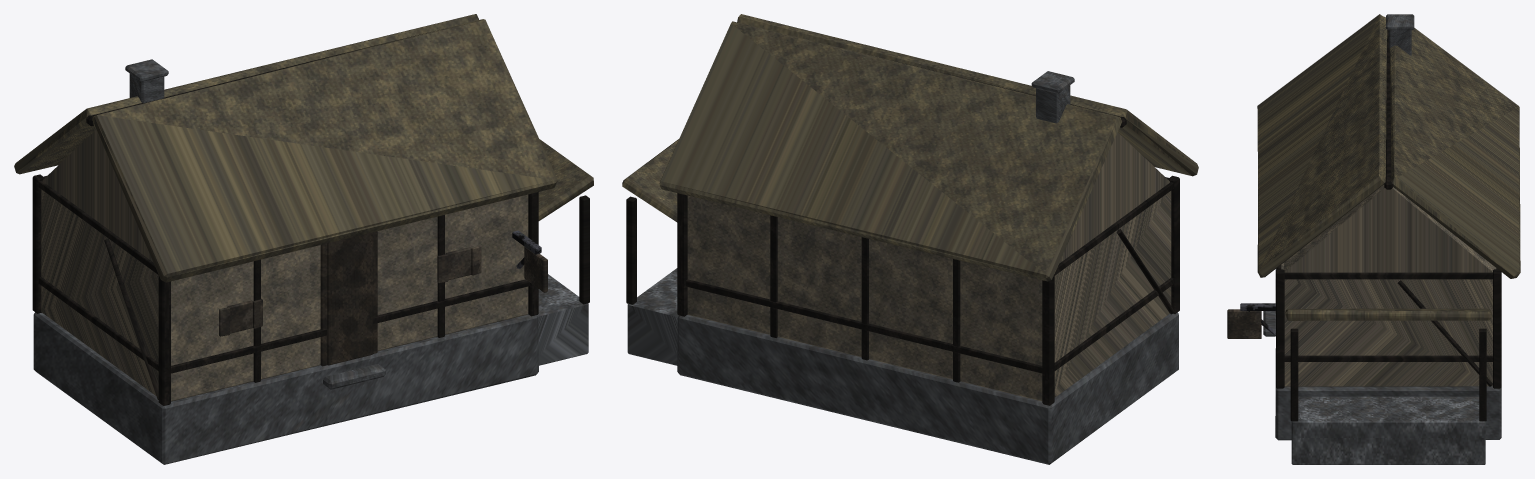
The model's file is inn.glb.
3 renders of one model, left to right at view 1: azimuth 30°, elevation 25°; view 2: azimuth 150°, elevation 25°; view 3: azimuth 270°, elevation 25°, orthographic. The views are drawn at different scales.
Parts seen in each view (by area): view 1: inn; view 2: inn; view 3: inn.
Boxes of the visible parts, box(x1,y1,x2,y2) form: inn: box(14, 14, 593, 464); inn: box(622, 14, 1198, 464); inn: box(1227, 14, 1520, 464).
Bounding box in the file's own units: 6.12 × 4.33 × 4.
2 materials, 2 textured.
